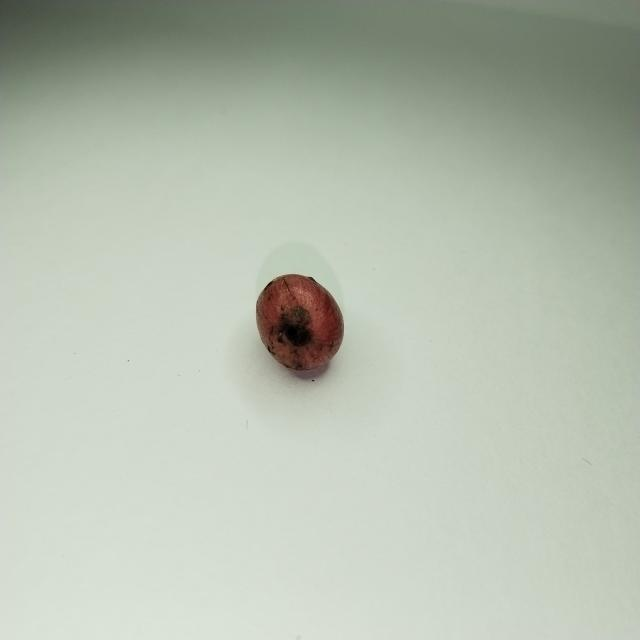Infectado: (257, 274, 343, 376)
